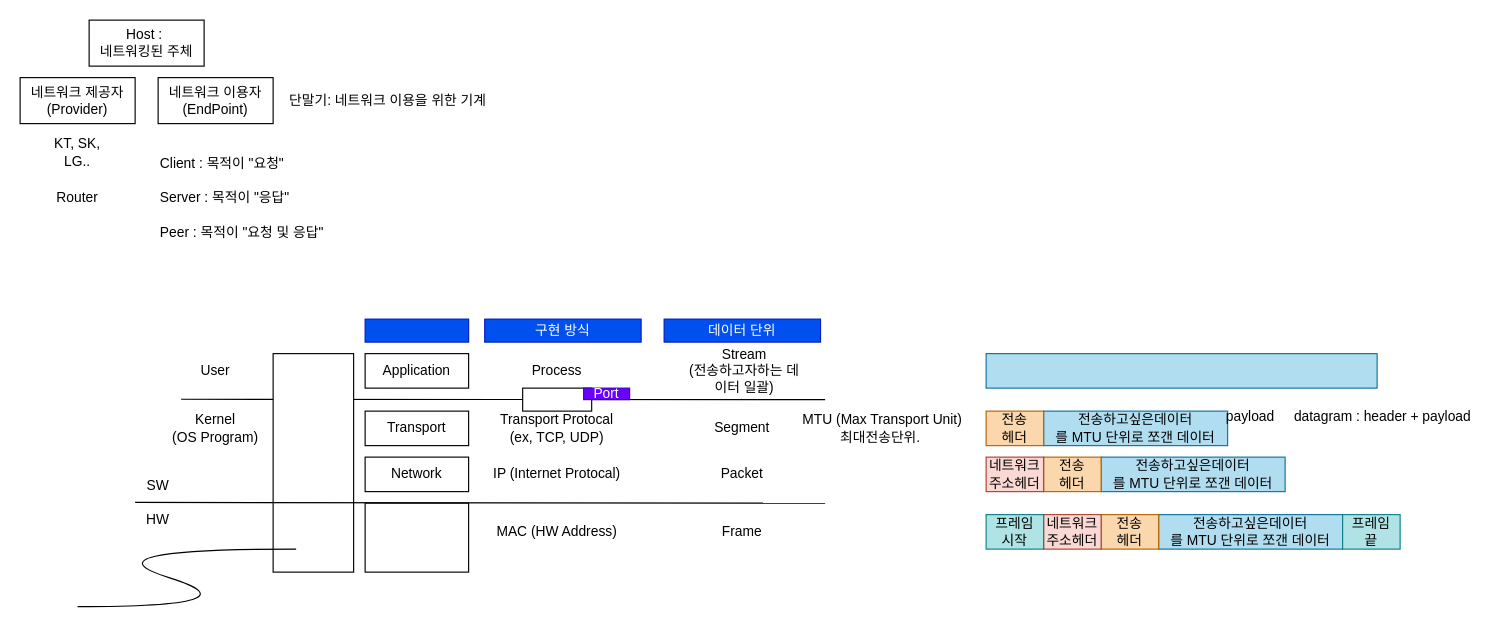
Some shapes in this 1501 by 627 pixel diagram are drawn without their labels. The shapes that lost their labels are listed below. From the top down, each one's centre as x and y in pixels, then its label:
the point at 416,330: 계층 (Layer)
the point at 1181,370: 전송하고싶은데이터
the point at 557,399: Socket
the point at 416,537: NIC (Network Interface Controller)
